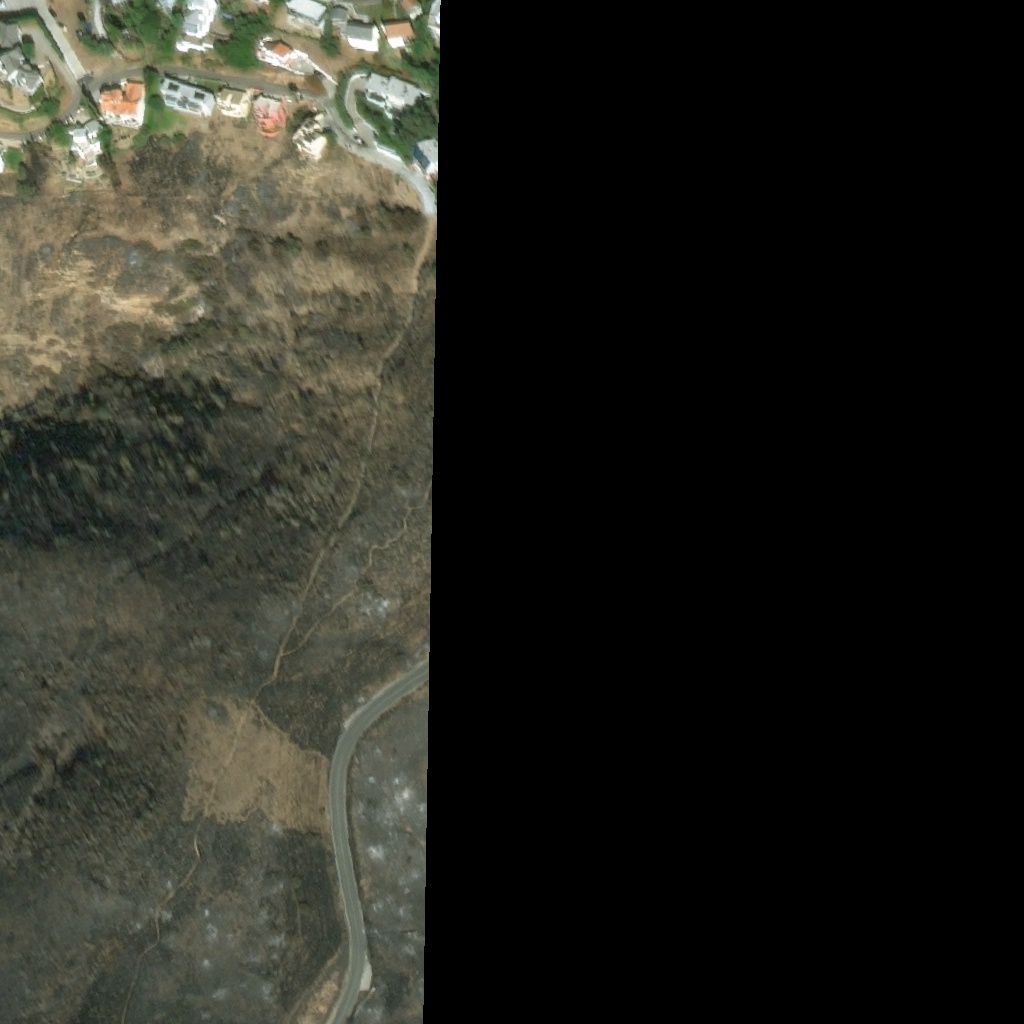0 no-damage: (178, 1, 233, 52), (100, 79, 145, 127), (0, 54, 43, 102), (162, 82, 216, 118), (382, 77, 420, 121), (288, 0, 328, 31), (297, 125, 328, 160), (256, 40, 296, 65), (69, 143, 99, 173), (218, 92, 250, 118), (383, 21, 414, 47), (364, 73, 390, 104), (348, 27, 380, 51), (414, 140, 436, 173), (256, 100, 282, 125), (65, 106, 93, 129), (2, 27, 22, 56), (330, 14, 350, 42), (93, 5, 109, 39), (399, 0, 422, 18), (426, 2, 438, 36), (159, 0, 181, 18), (302, 75, 324, 93), (86, 121, 103, 141), (114, 0, 134, 9), (177, 74, 195, 83), (221, 16, 234, 26), (73, 132, 87, 141), (247, 0, 263, 6), (0, 156, 5, 172), (8, 16, 20, 22)
